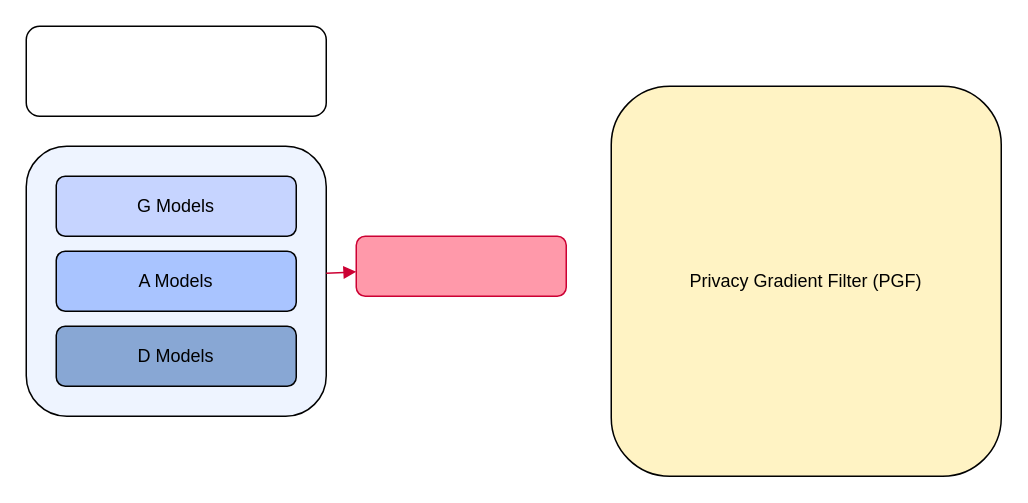
Some shapes in this 1028 by 503 pixel diagram are drawn without their labels. The centre of each missing label's shape, as x and y in pixels:
Batch of Masked Transactions: [175,70]
Raw Gradients: [460,265]
